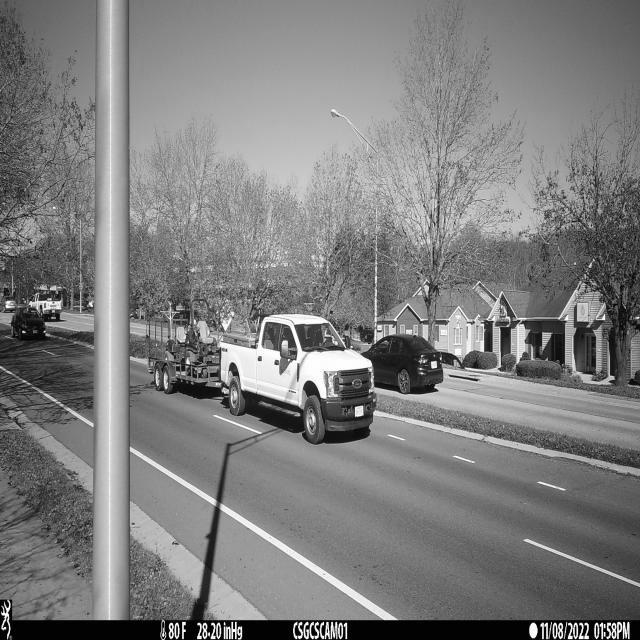Pickup: (220, 314, 376, 445)
Trailer: (147, 317, 224, 394)
